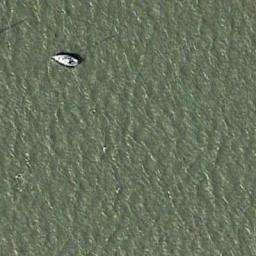boat: (49, 52, 80, 68)
